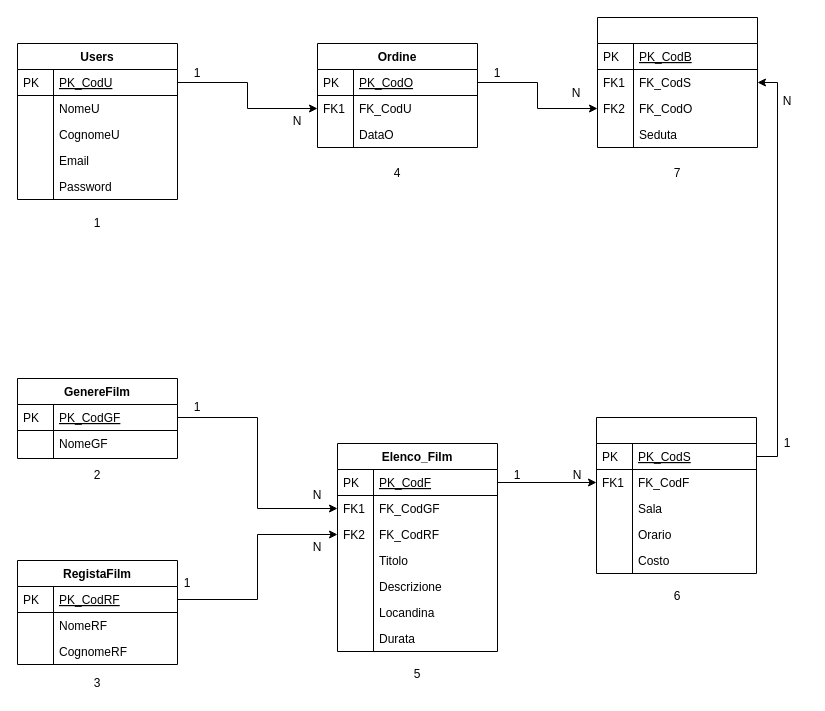
Some shapes in this 825 by 711 pixel diagram are drawn without their labels. Here are the shapes that lost their labels. From the top down, the box of each, then its label:
(596, 16, 758, 148): Biglietti
(596, 416, 756, 574): Spettacoli
